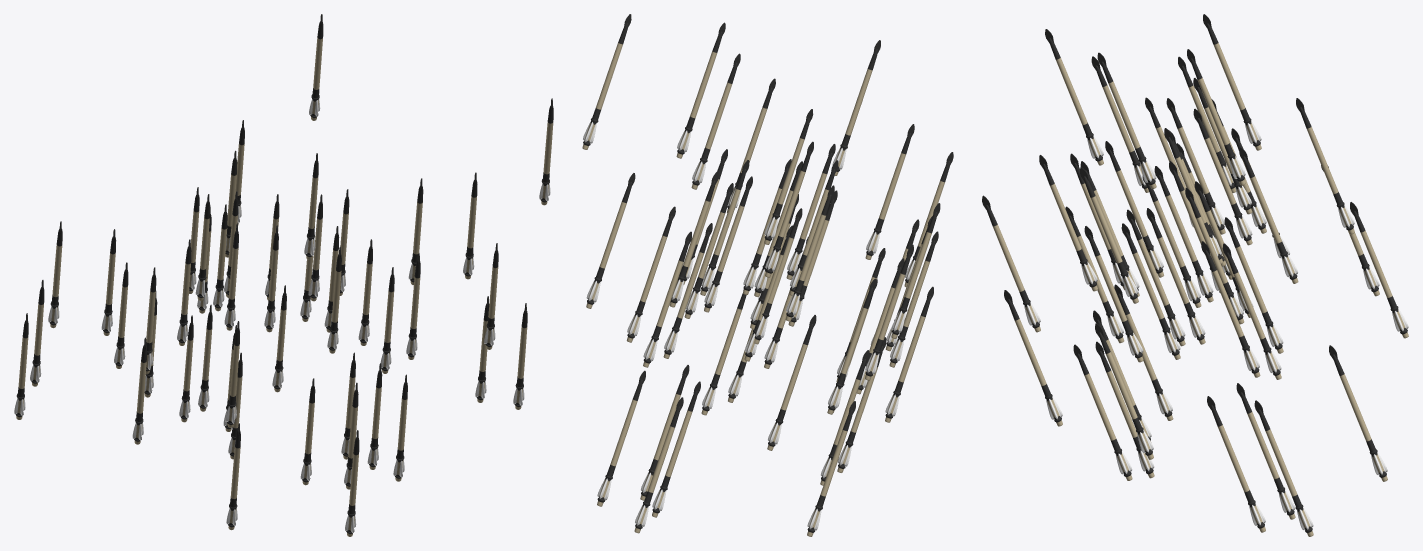
3 renders of one model, left to right at view 1: azimuth 30°, elevation 25°; view 2: azimuth 150°, elevation 25°; view 3: azimuth 270°, elevation 25°, orthographic. The views are drawn at different scales.
Parts seen in each view (by area): view 1: D1; view 2: D1; view 3: D1.
Part boxes in pixels (bbox=[...]): D1: bbox=[14, 14, 553, 536]; D1: bbox=[582, 14, 953, 536]; D1: bbox=[982, 14, 1408, 536].
Bounding box in the file's own units: 1.1 × 1.31 × 1.03.
